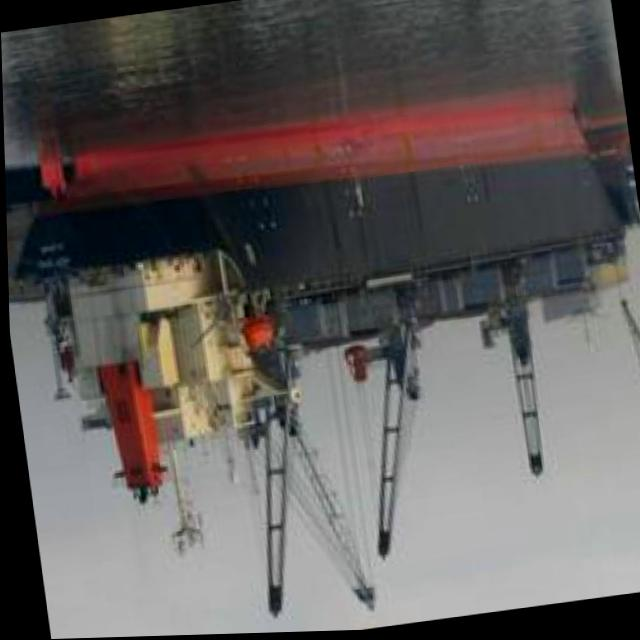ship2: (11, 96, 640, 630)
